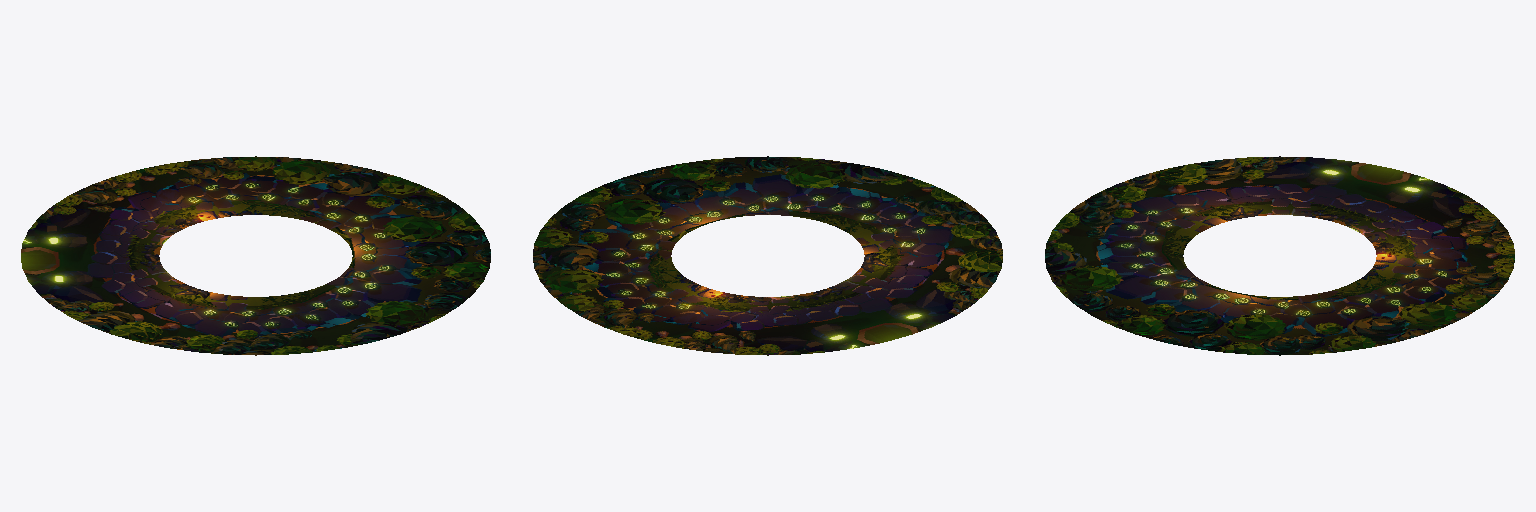
3 renders of one model, left to right at view 1: azimuth 30°, elevation 25°; view 2: azimuth 150°, elevation 25°; view 3: azimuth 270°, elevation 25°, orthographic.
Visible parts, largest first — view 1: ground_groundShape; view 2: ground_groundShape; view 3: ground_groundShape.
Boxes of the visible parts, x1,y1,x2,y2 form: ground_groundShape: [21, 156, 490, 355]; ground_groundShape: [533, 156, 1002, 355]; ground_groundShape: [1045, 156, 1514, 355].
Size of the model in its own units: 129 by 0 by 129.
1 materials, 1 textured.